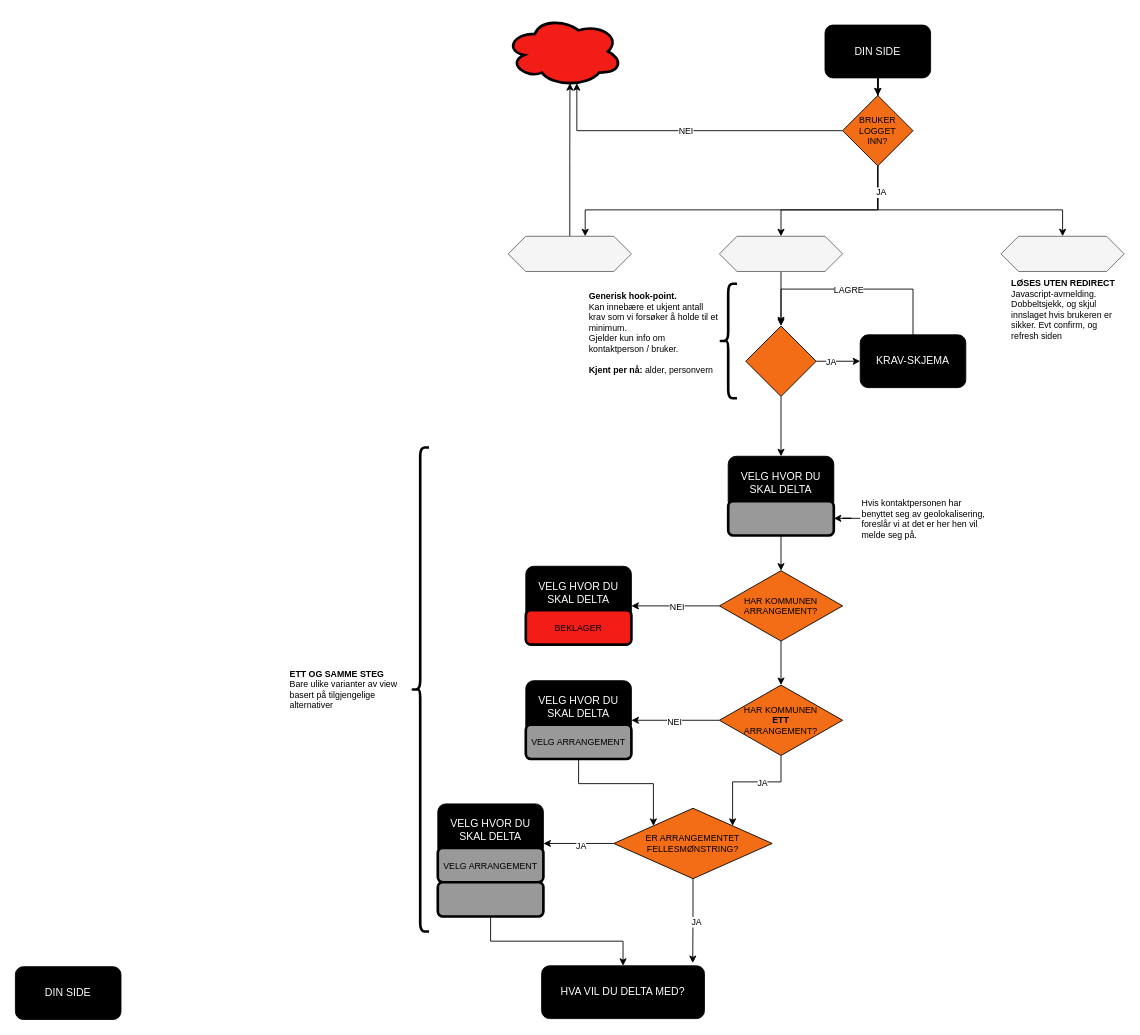
The diagram is 1140 pixels wide and 1035 high, and some of its shapes have lost their labels. Here are the shapes that lost their labels. From the top down, the centre of each, then its label:
At pixel 563 51: "BRUKER SENDES TIL ID.UKM.NO".
At pixel 569 253: "REDIGER BRUKER-INFO".
At pixel 781 253: "START PÅMELDING".
At pixel 1062 253: "MELD AV INNSLAG".
At pixel 780 360: "MANGLER VI NOEN KRAV?".
At pixel 780 517: "Foreslå sted".
At pixel 490 898: "VELG KOMMUNE".
